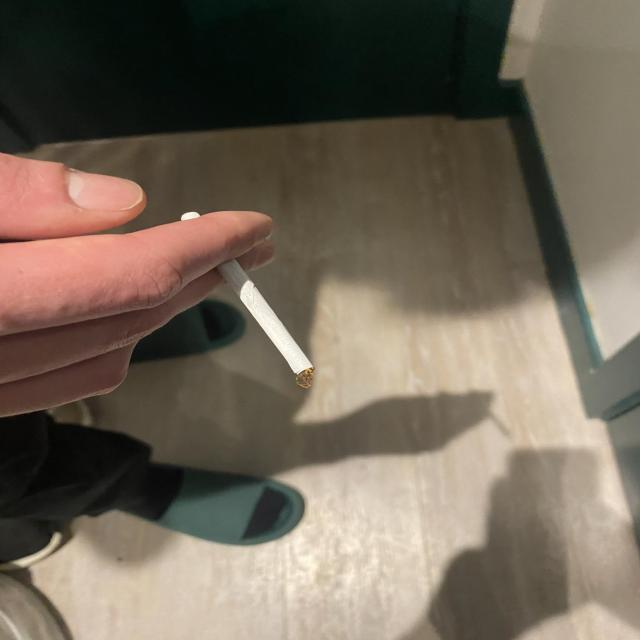rokok: (180, 210, 316, 386)
